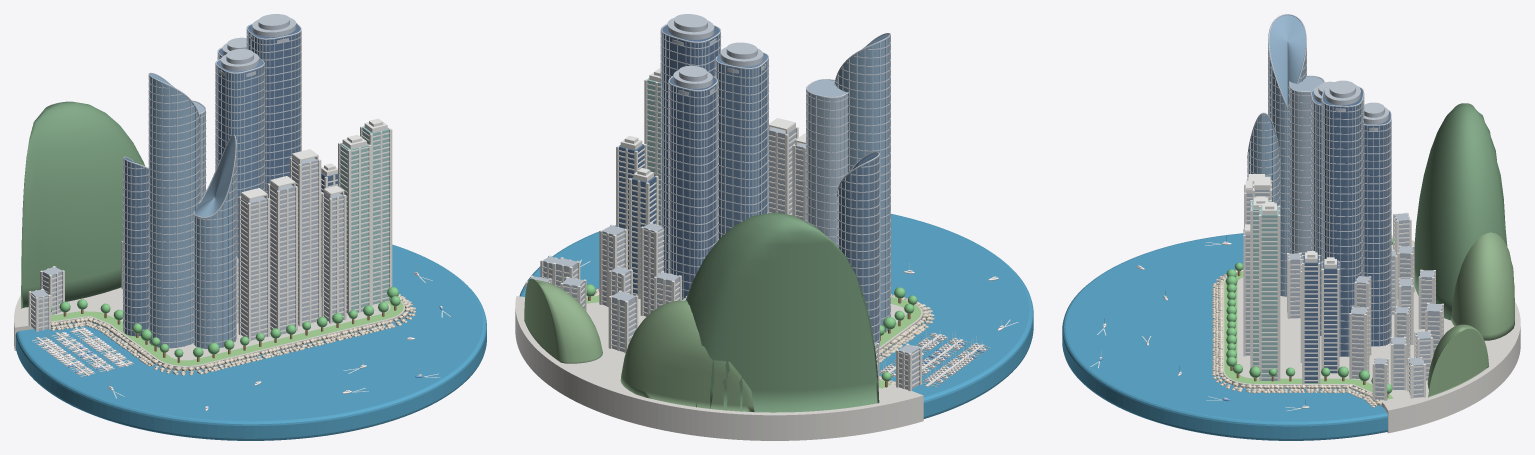
Rendered from marinecity.glb.
3 views of the same model, side by side, from view 1: azimuth 30°, elevation 25°; view 2: azimuth 150°, elevation 25°; view 3: azimuth 270°, elevation 25° (orthographic). The views are drawn at different scales.
Parts seen in each view (by area): view 1: MC2_Sea, MC2_Mount, MC2_AptWhite, MC2_T_IpkTall, MC2_AptTeal, MC2_T_IpkHorn, MC2_T_Zen2, MC2_T_Zen1, MC2_T_IpkBack, MC2_Revet, MC2_Land, MC2_Trees (+5 smaller); view 2: MC2_Mount, MC2_Sea, MC2_Land, MC2_T_Zen3, MC2_Back, MC2_T_Zen1, MC2_T_IpkTall, MC2_AptTeal, MC2_T_IpkBlock, MC2_T_IpkBack, MC2_T_Zen2, MC2_AptWhite (+5 smaller); view 3: MC2_Sea, MC2_Mount, MC2_AptTeal, MC2_Back, MC2_T_Zen2, MC2_Land, MC2_T_Zen3, MC2_T_IpkTall, MC2_T_IpkBlock, MC2_Revet, MC2_T_Zen1, MC2_T_IpkHorn (+3 smaller).
Part boxes in pixels (<box>): MC2_Sea: <box>15,244,486,440</box>; MC2_Mount: <box>21,101,144,308</box>; MC2_AptWhite: <box>238,149,346,341</box>; MC2_T_IpkTall: <box>148,72,200,348</box>; MC2_AptTeal: <box>321,118,392,314</box>; MC2_T_IpkHorn: <box>193,134,236,348</box>; MC2_T_Zen2: <box>246,14,301,193</box>; MC2_T_Zen1: <box>215,49,264,258</box>; MC2_T_IpkBack: <box>122,156,148,336</box>; MC2_Revet: <box>51,294,415,375</box>; MC2_Land: <box>14,287,404,370</box>; MC2_Trees: <box>51,287,400,362</box>; MC2_Mount: <box>524,213,879,412</box>; MC2_Sea: <box>519,214,1033,418</box>; MC2_Land: <box>515,295,923,440</box>; MC2_T_Zen3: <box>668,65,718,299</box>; MC2_Back: <box>525,222,921,391</box>; MC2_T_Zen1: <box>715,42,769,239</box>; MC2_T_IpkTall: <box>834,33,890,332</box>; MC2_AptTeal: <box>616,68,660,298</box>; MC2_T_IpkBlock: <box>806,79,848,245</box>; MC2_T_IpkBack: <box>837,151,879,345</box>; MC2_T_Zen2: <box>660,14,721,273</box>; MC2_AptWhite: <box>769,118,805,221</box>; MC2_Sea: <box>1062,233,1387,440</box>; MC2_Mount: <box>1414,103,1514,397</box>; MC2_AptTeal: <box>1250,196,1339,384</box>; MC2_Back: <box>1287,212,1443,400</box>; MC2_T_Zen2: <box>1321,80,1364,356</box>; MC2_Land: <box>1223,235,1520,433</box>; MC2_T_Zen3: <box>1363,102,1391,346</box>; MC2_T_IpkTall: <box>1268,14,1306,296</box>; MC2_T_IpkBlock: <box>1288,75,1324,258</box>; MC2_Revet: <box>1212,269,1381,407</box>; MC2_T_Zen1: <box>1310,81,1334,335</box>; MC2_T_IpkHorn: <box>1247,112,1280,206</box>.
Bounding box in the file's own units: 6.38 × 4.36 × 6.39.
